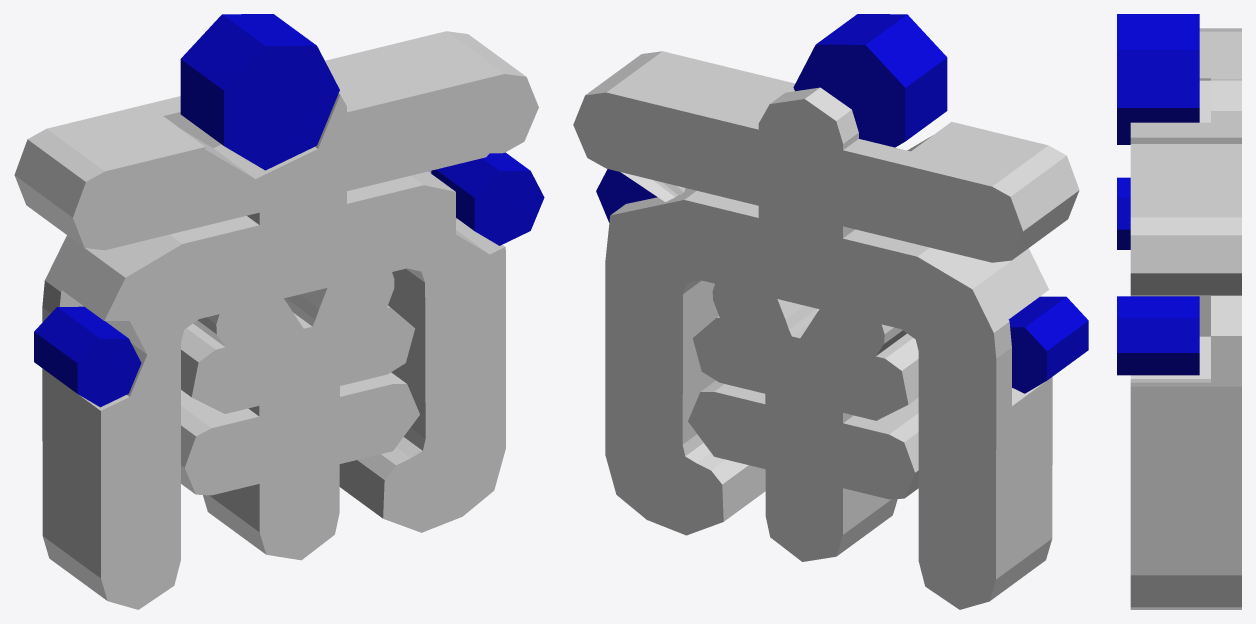
The model's file is Ch_Lite_China_南_01.fbx.
3 views of the same model, side by side, from view 1: azimuth 30°, elevation 25°; view 2: azimuth 150°, elevation 25°; view 3: azimuth 270°, elevation 25° (orthographic). The views are drawn at different scales.
Visible parts, largest first — view 1: sphere1; view 2: sphere1; view 3: sphere1.
Boxes of the visible parts, left/top/right/bottom form: sphere1: left=14, top=14, right=544, bottom=609; sphere1: left=573, top=14, right=1088, bottom=609; sphere1: left=1117, top=14, right=1241, bottom=609.
Bounding box in the file's own units: 0.9262 × 1.02 × 0.2242.
